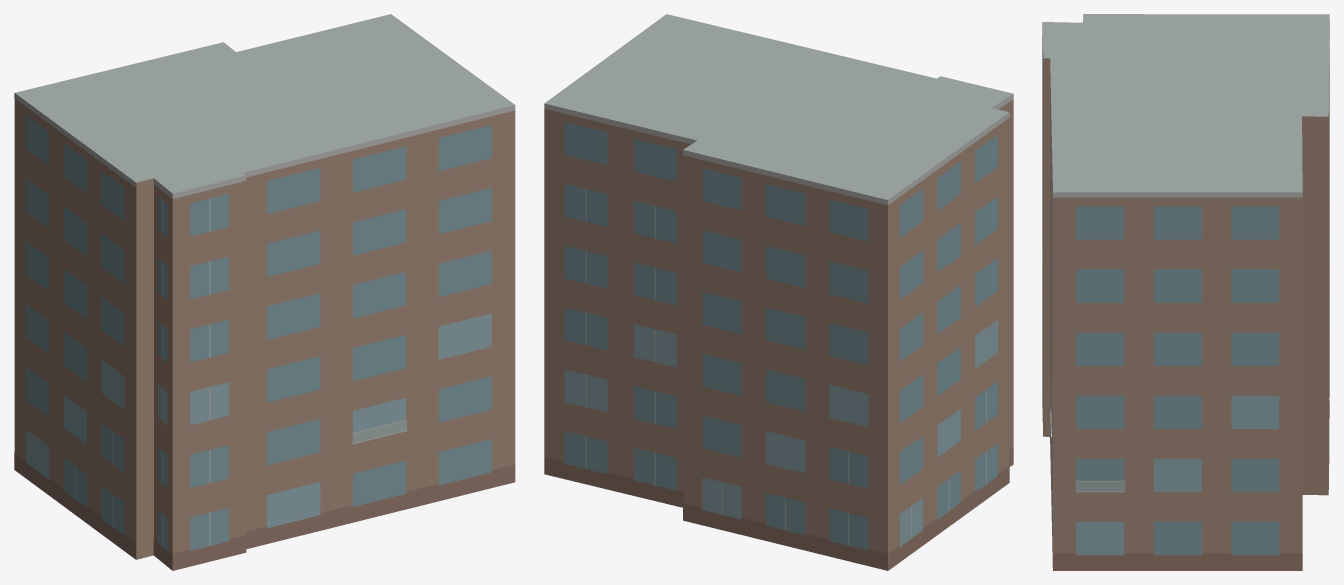
The model's file is survey-upis-32725411.glb.
3 views of the same model, side by side, from view 1: azimuth 30°, elevation 25°; view 2: azimuth 150°, elevation 25°; view 3: azimuth 270°, elevation 25° (orthographic). The views are drawn at different scales.
Parts seen in each view (by area): view 1: survey-upis-32725411.tmp; view 2: survey-upis-32725411.tmp; view 3: survey-upis-32725411.tmp.
Part boxes in pixels (left/top/right/bottom): survey-upis-32725411.tmp: left=14, top=14, right=515, bottom=570; survey-upis-32725411.tmp: left=544, top=14, right=1013, bottom=570; survey-upis-32725411.tmp: left=1042, top=14, right=1329, bottom=570.
Size of the model in its own units: 17.11 by 16.9 by 11.63.
